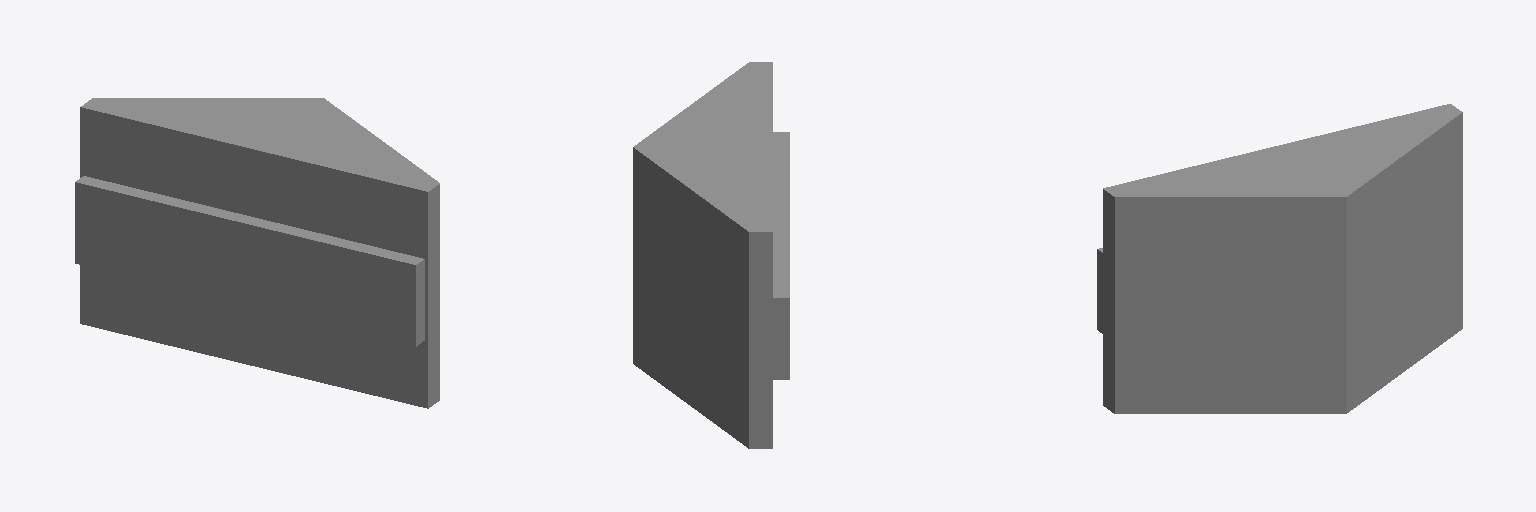
The model's file is TriangleBumperLeft.obj.
3 renders of one model, left to right at view 1: azimuth 30°, elevation 25°; view 2: azimuth 150°, elevation 25°; view 3: azimuth 270°, elevation 25°, orthographic.
Visible parts, largest first — view 1: TriangleBumper.000_Cube.030, FlipBumper.000_Cube.028; view 2: TriangleBumper.000_Cube.030, FlipBumper.000_Cube.028; view 3: TriangleBumper.000_Cube.030.
Boxes of the visible parts, box(x1,y1,x2,y2) form: TriangleBumper.000_Cube.030: box(80, 98, 439, 408); FlipBumper.000_Cube.028: box(75, 176, 424, 346); TriangleBumper.000_Cube.030: box(633, 62, 772, 448); FlipBumper.000_Cube.028: box(773, 132, 789, 379); TriangleBumper.000_Cube.030: box(1103, 104, 1462, 413).
Bounding box in the file's own units: 0.4907 × 0.5 × 0.7632.